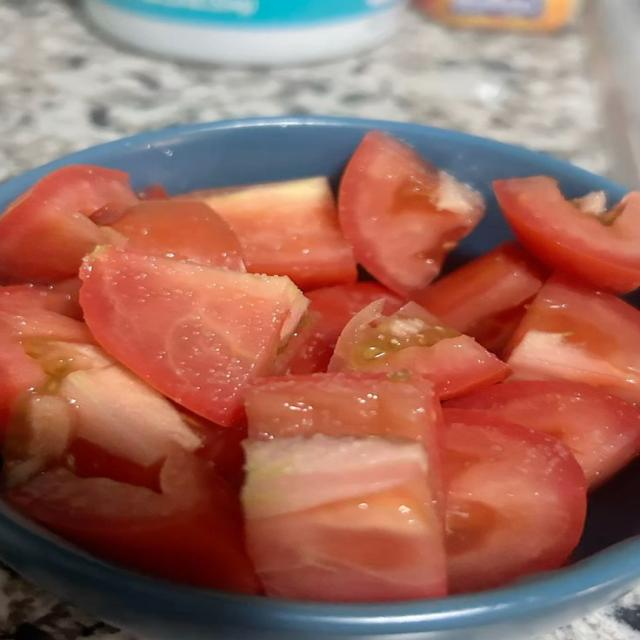sliced tomatoe: (244, 374, 446, 600), (80, 248, 307, 426), (6, 453, 258, 593), (243, 435, 446, 601), (3, 341, 201, 485), (443, 409, 586, 592), (339, 132, 484, 296), (447, 381, 639, 487), (183, 177, 356, 289), (329, 302, 510, 399), (494, 177, 639, 292), (507, 277, 639, 403), (246, 373, 441, 457), (0, 166, 137, 283), (59, 365, 200, 467), (0, 287, 93, 441), (414, 243, 544, 352), (276, 282, 405, 374), (111, 200, 245, 270), (177, 406, 246, 488), (0, 325, 46, 442), (64, 438, 163, 491), (0, 278, 81, 319), (138, 184, 170, 200)
